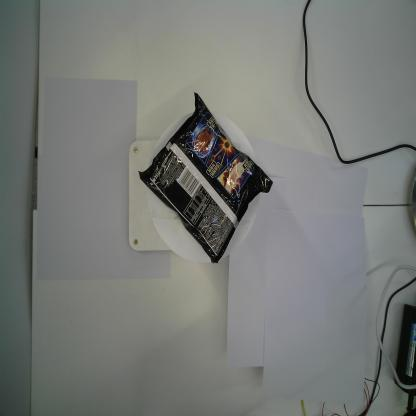Instant Noodles: (137, 90, 274, 266)
